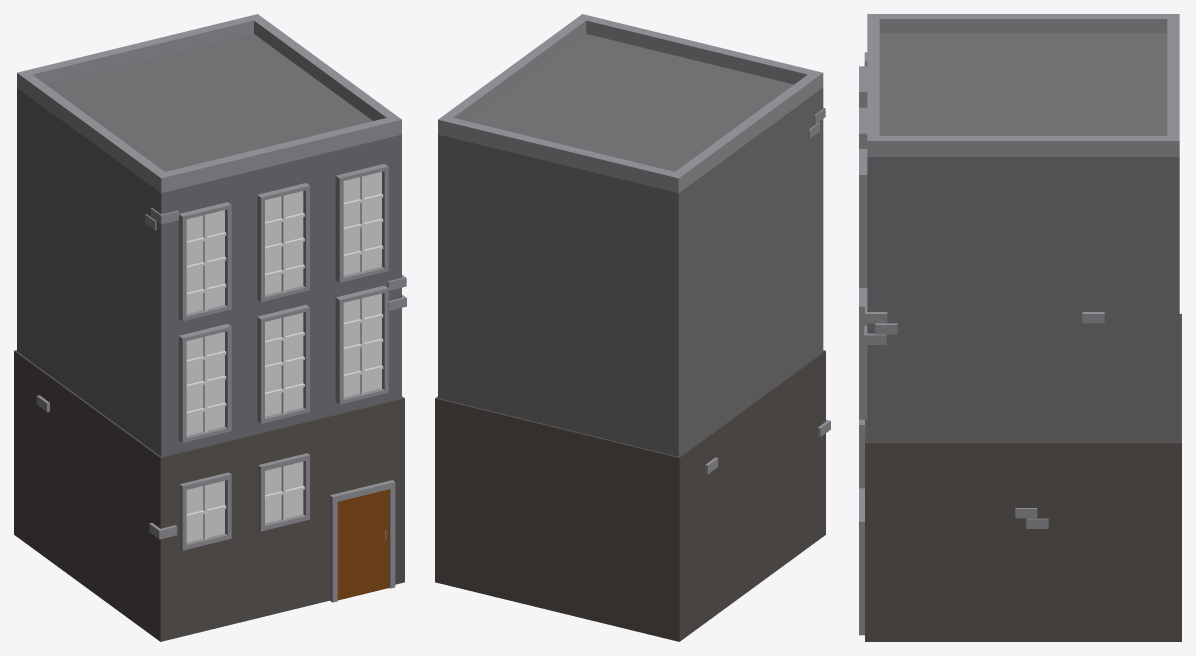
Rendered from niceBuildingGrey.fbx.
3 views of the same model, side by side, from view 1: azimuth 30°, elevation 25°; view 2: azimuth 150°, elevation 25°; view 3: azimuth 270°, elevation 25° (orthographic). The views are drawn at different scales.
Parts seen in each view (by area): view 1: Cube; view 2: Cube; view 3: Cube.
Boxes of the visible parts, x1,y1,x2,y2 form: Cube: (14,14,406,641); Cube: (435,14,830,641); Cube: (859,14,1181,641).
Bounding box in the file's own units: 384 × 681 × 398.
